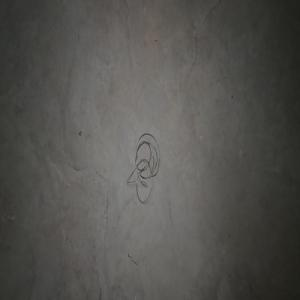Wire: (126, 133, 159, 202)
